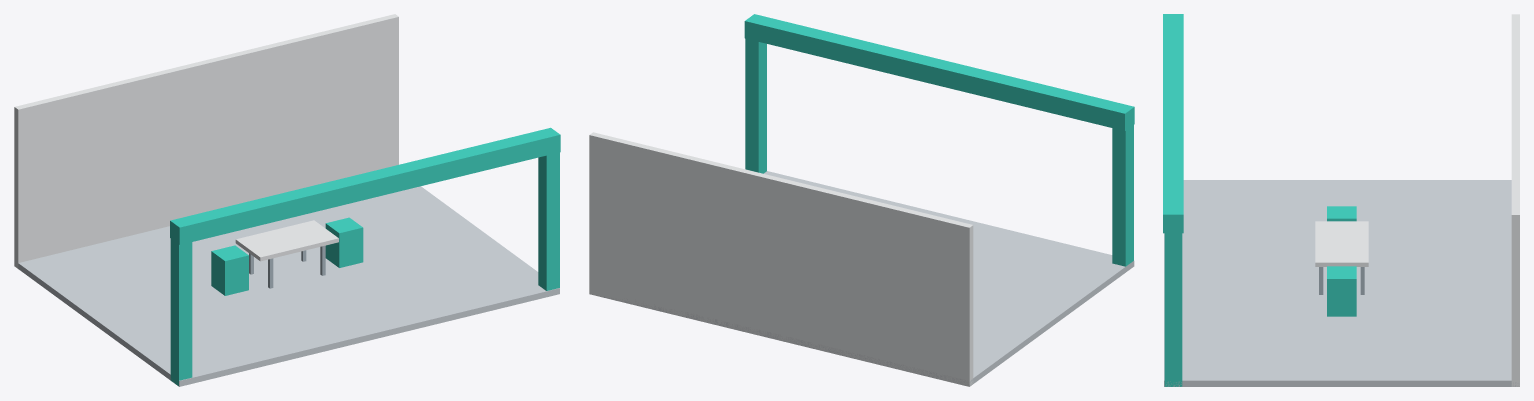
3 views of the same model, side by side, from view 1: azimuth 30°, elevation 25°; view 2: azimuth 150°, elevation 25°; view 3: azimuth 270°, elevation 25° (orthographic). The views are drawn at different scales.
Parts seen in each view (by area): view 1: Exhibition Booth Concept; view 2: Exhibition Booth Concept; view 3: Exhibition Booth Concept.
Part boxes in pixels (x1,y1,x2,y2): Exhibition Booth Concept: (14, 14, 560, 386); Exhibition Booth Concept: (589, 14, 1134, 386); Exhibition Booth Concept: (1163, 14, 1519, 386).
Size of the model in its own units: 8 by 3.2 by 6.02.
